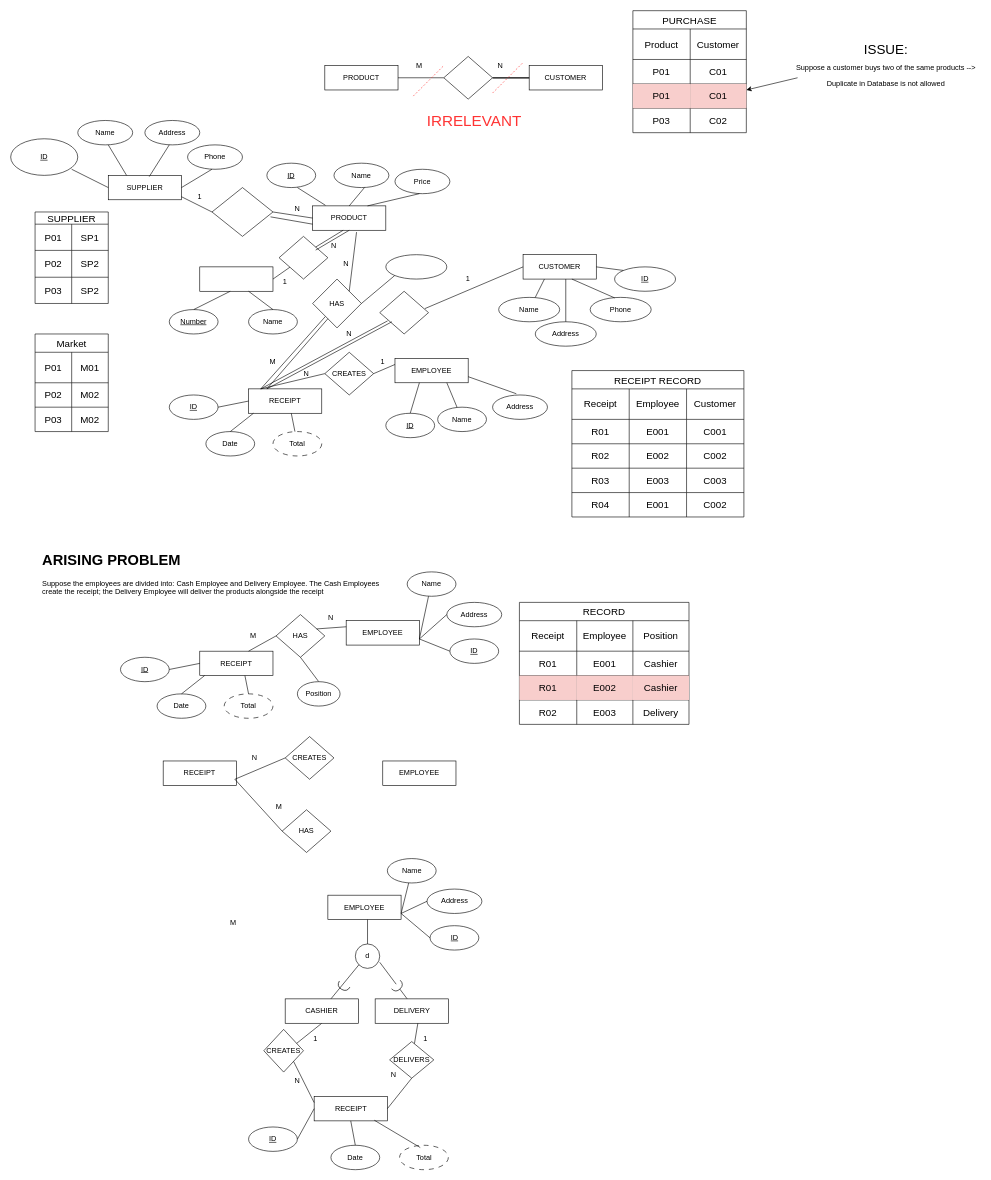
Image size: 991x1180. Some labels were removed from this diagram. The centre of each missing label's shape, as x and y in pixels:
"BUY" goes at point 468,77.
"BUYS" goes at point 404,312.
"Quantity" goes at point 416,266.
"SELLS" goes at point 303,257.
"STALL" goes at point 236,278.
"SUPPLIES" goes at point 242,211.
